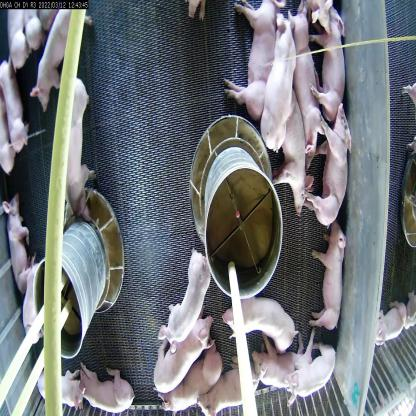Pig: (52, 68, 95, 215), (224, 0, 274, 119), (314, 101, 355, 236), (268, 96, 312, 216), (219, 289, 297, 354), (25, 10, 76, 106), (260, 11, 292, 160), (157, 264, 218, 340), (150, 315, 209, 393), (286, 7, 320, 140), (309, 219, 346, 337), (195, 361, 266, 416), (156, 348, 221, 408), (315, 3, 343, 123), (0, 189, 30, 299), (79, 356, 132, 416), (31, 360, 86, 411), (287, 350, 339, 401), (255, 343, 308, 391), (0, 57, 28, 147), (18, 253, 44, 348)
